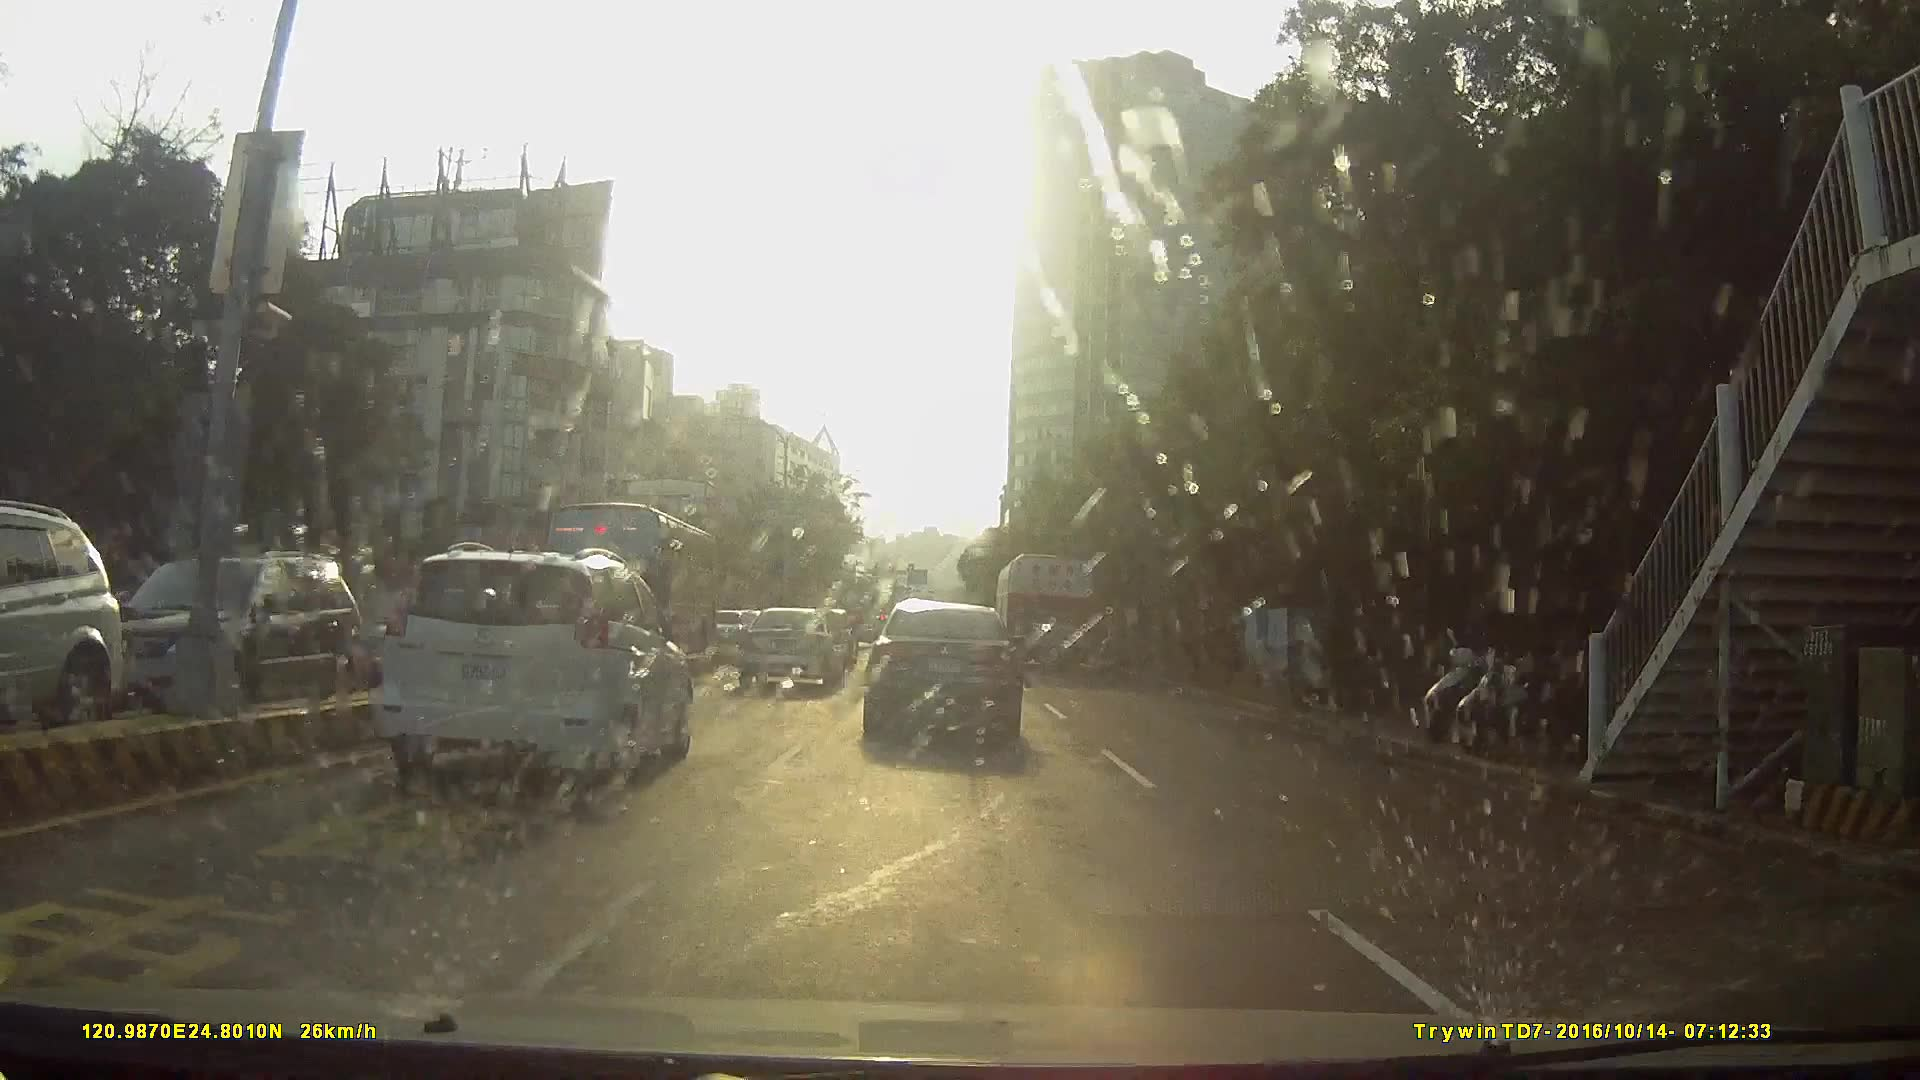vehicle: (251, 556, 684, 868), (378, 541, 695, 793), (94, 549, 377, 732), (1, 506, 142, 753), (525, 497, 725, 655), (861, 592, 1025, 760), (994, 555, 1098, 680), (735, 607, 844, 691), (866, 638, 915, 687)
